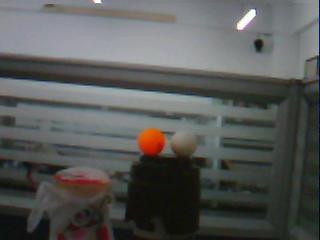oball: (137, 128, 165, 156)
